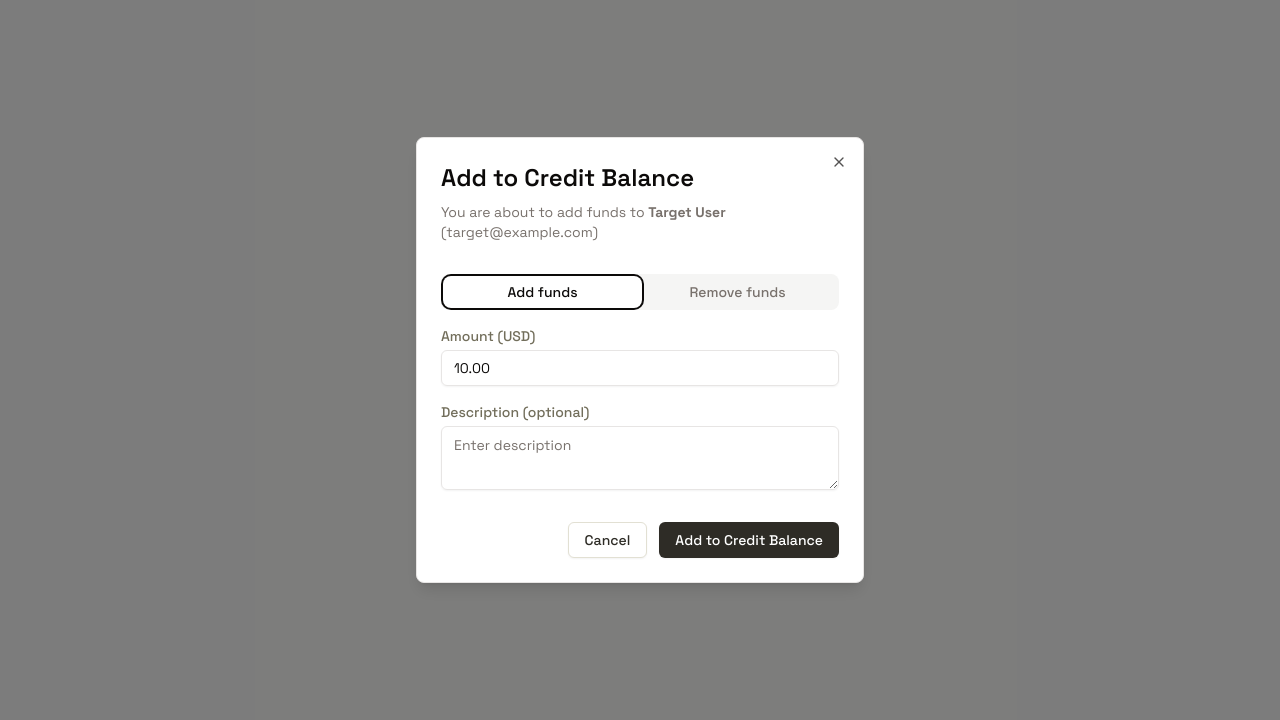
Scenario: AddFundsModal › shows a mode-specific error when the mutation fails
Click the tab "Remove funds": (738, 292) [640,278,835,306]
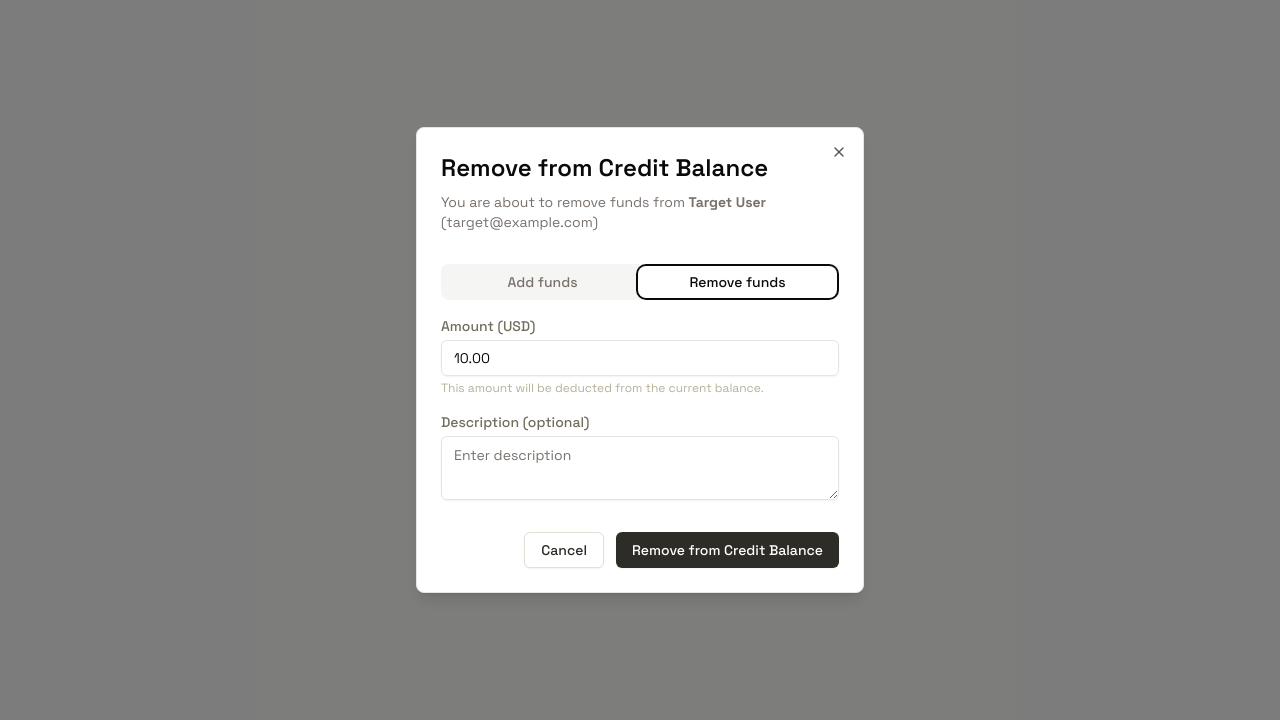
Click the button "Remove from Credit Balance": (728, 550) [616,532,839,568]
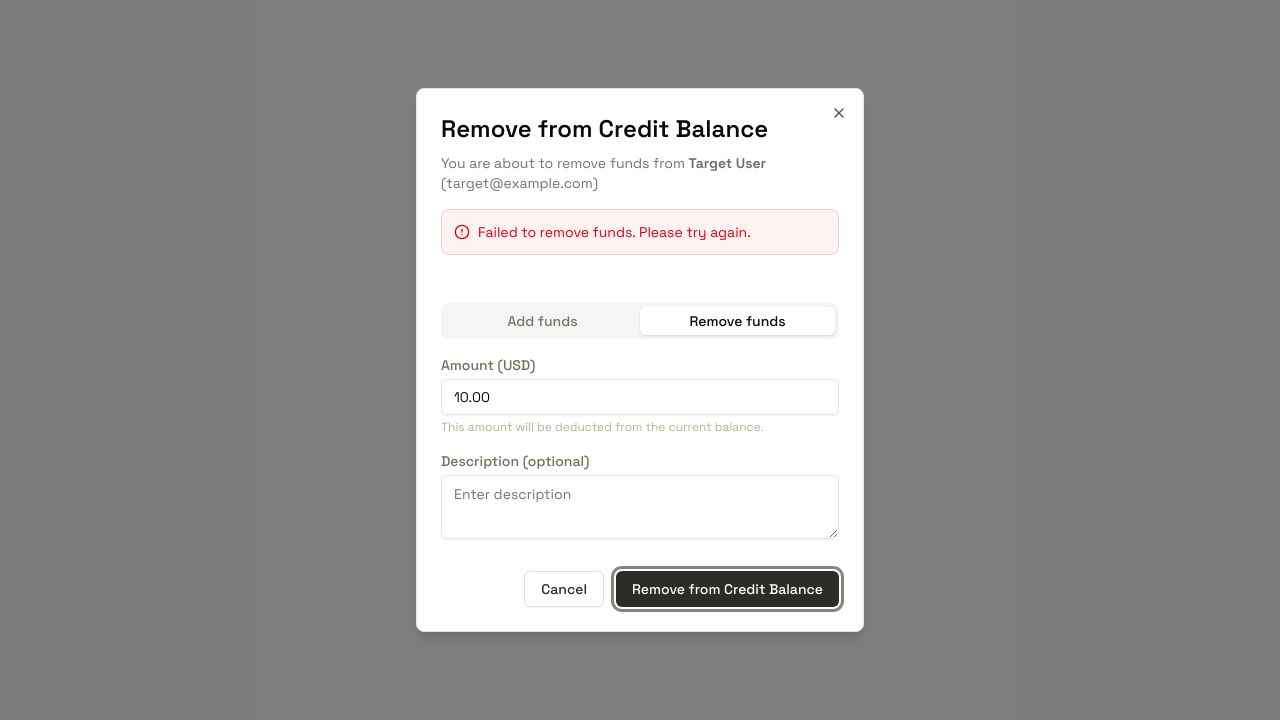
Now the dialog shows "Failed to remove funds. Please try again.", box [478,223,751,241]
